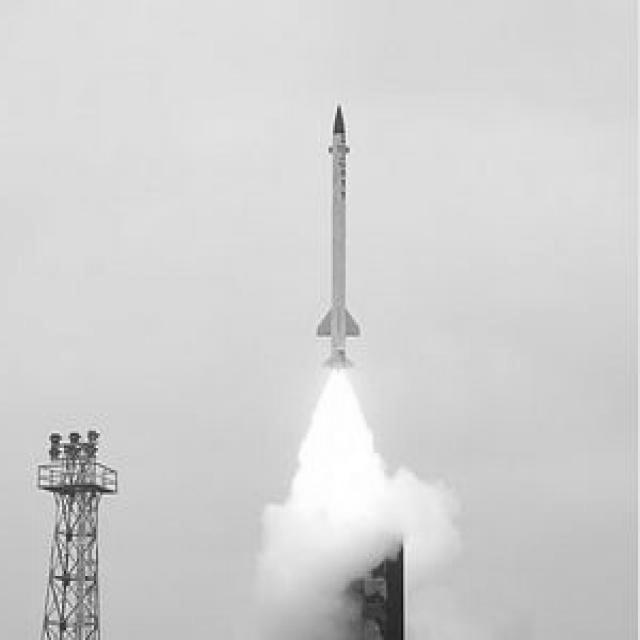missile: (315, 95, 361, 373)
